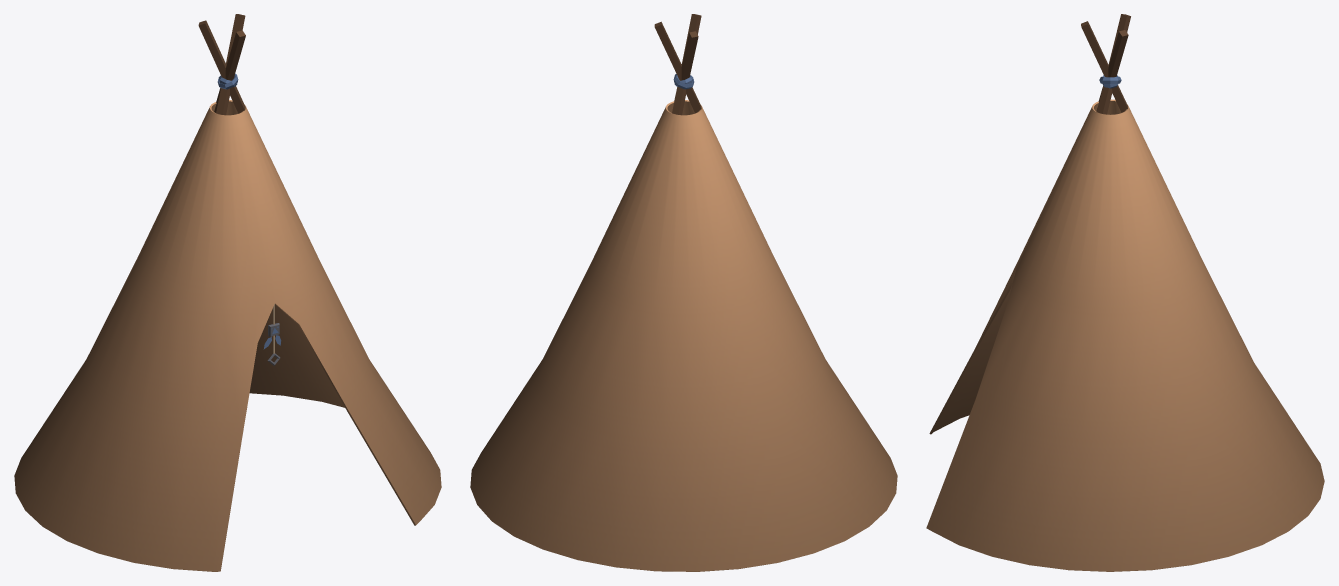
The model's file is Tent_02.fbx.
The picture shows the model from 3 angles, left to right: view 1: azimuth 30°, elevation 25°; view 2: azimuth 150°, elevation 25°; view 3: azimuth 270°, elevation 25°; orthographic projection.
Parts seen in each view (by area): view 1: Tent_02_LOD0; view 2: Tent_02_LOD0; view 3: Tent_02_LOD0.
Boxes of the visible parts, box(x1,y1,x2,y2) form: Tent_02_LOD0: box(14, 14, 441, 571); Tent_02_LOD0: box(470, 14, 897, 571); Tent_02_LOD0: box(926, 14, 1324, 571).
Size of what is drawn, in the model's own units: 2.62 by 3.1 by 2.44.
